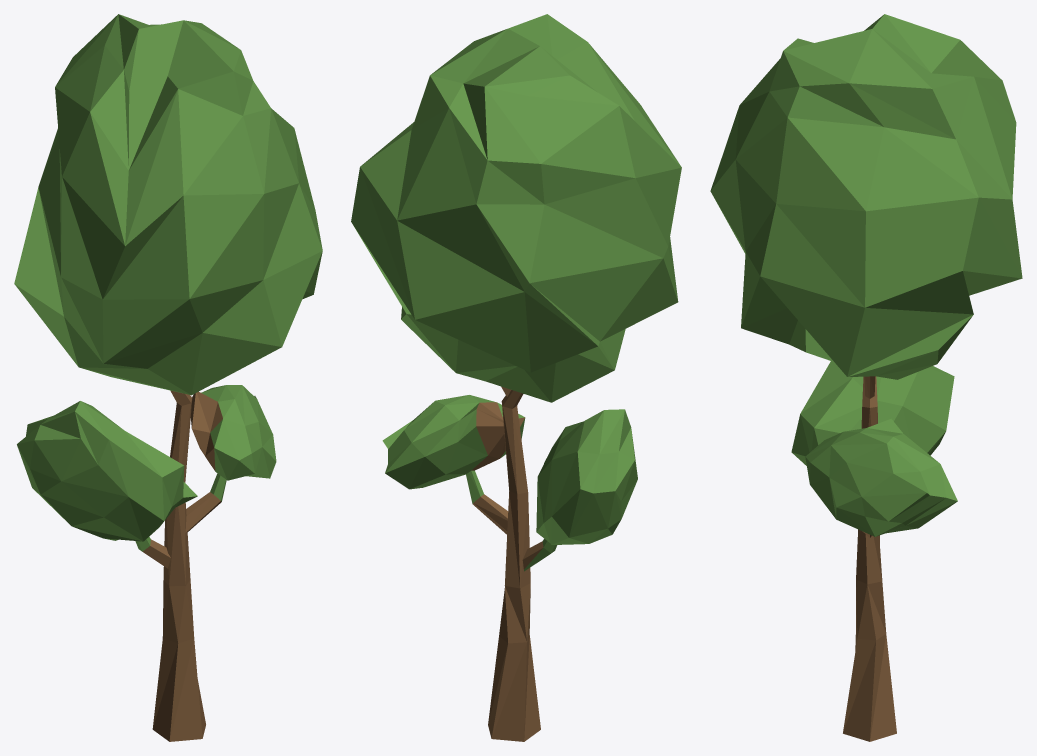
File: tree3d-144.glb
The picture shows the model from 3 angles, left to right: view 1: azimuth 30°, elevation 25°; view 2: azimuth 150°, elevation 25°; view 3: azimuth 270°, elevation 25°; orthographic projection.
Parts seen in each view (by area): view 1: tree3d-144; view 2: tree3d-144; view 3: tree3d-144.
Part boxes in pixels (x1=…): tree3d-144: x1=14, y1=14, x2=322, y2=741; tree3d-144: x1=351, y1=14, x2=681, y2=741; tree3d-144: x1=710, y1=14, x2=1022, y2=741.
Size of the model in its own units: 0.3956 by 1 by 0.4025.
